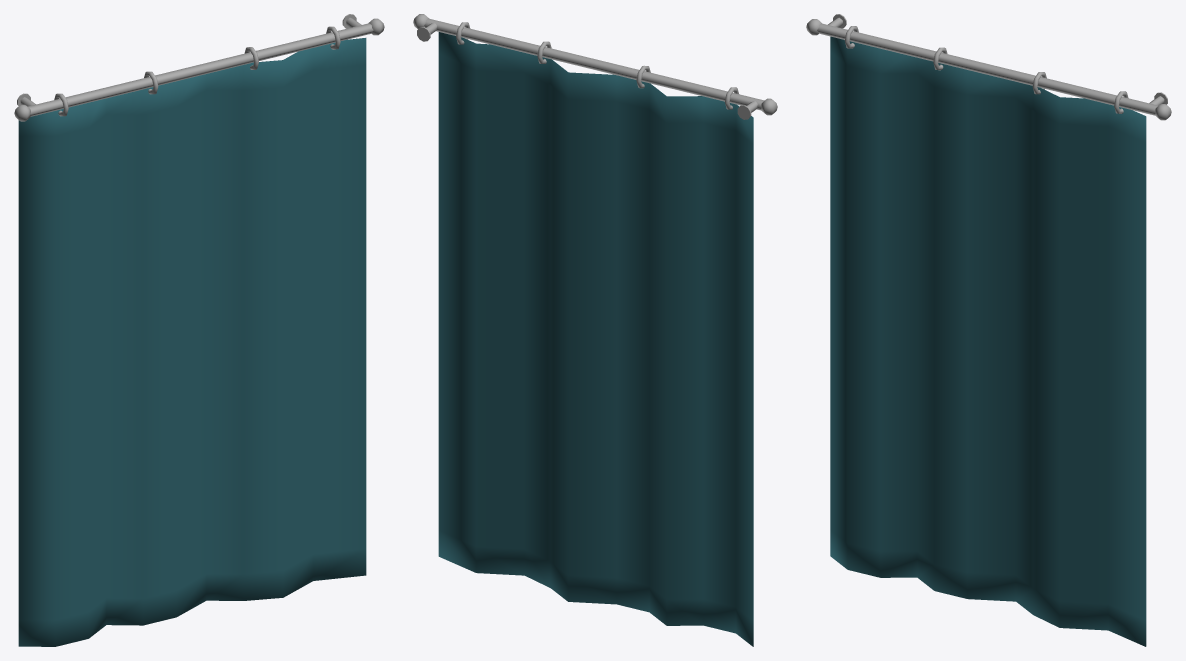
File: Gordijn_Dicht.fbx
The picture shows the model from 3 angles, left to right: view 1: azimuth 30°, elevation 25°; view 2: azimuth 150°, elevation 25°; view 3: azimuth 330°, elevation 25°; orthographic projection.
Visible parts, largest first — view 1: Plane.003, Cylinder.003; view 2: Plane.003, Cylinder.003; view 3: Plane.003, Cylinder.003.
Boxes of the visible parts, x1=… form: Plane.003: x1=18, y1=38, x2=366, y2=646; Cylinder.003: x1=14, y1=14, x2=384, y2=121; Plane.003: x1=438, y1=32, x2=753, y2=646; Cylinder.003: x1=413, y1=14, x2=777, y2=119; Plane.003: x1=830, y1=36, x2=1146, y2=646; Cylinder.003: x1=806, y1=14, x2=1171, y2=120.
Size of the model in its own units: 97.31 by 140 by 8.79.
